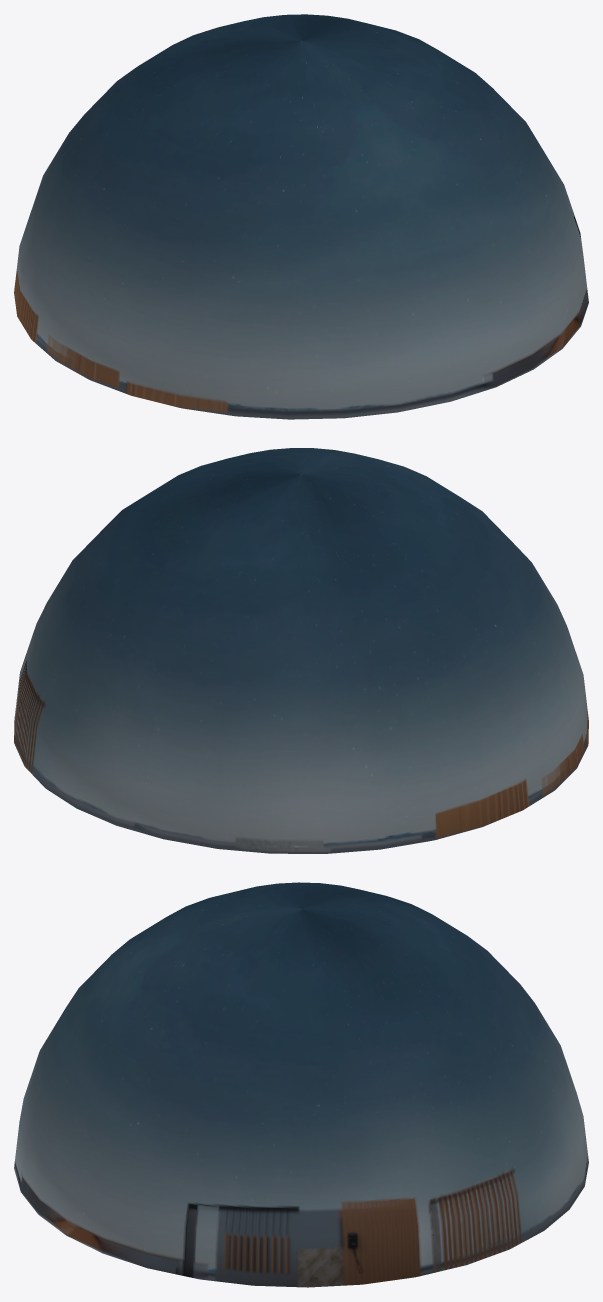
Rendered from skydomemoonlit.glb.
The picture shows the model from 3 angles, top to bottom: view 1: azimuth 30°, elevation 25°; view 2: azimuth 150°, elevation 25°; view 3: azimuth 270°, elevation 25°; orthographic projection.
Parts seen in each view (by area): view 1: Object_4; view 2: Object_4; view 3: Object_4.
Part boxes in pixels (left/top/right/bottom): Object_4: left=14, top=14, right=588, bottom=419; Object_4: left=14, top=448, right=588, bottom=853; Object_4: left=14, top=882, right=588, bottom=1287.
Bounding box in the file's own units: 49.99 × 25 × 49.99.
Materials: 1 (1 with a texture image).
